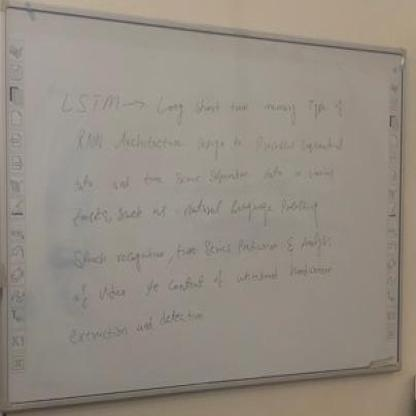Handwritten text: (65, 246, 337, 317), (67, 215, 340, 279), (66, 182, 334, 235), (57, 83, 356, 127), (68, 151, 340, 199), (68, 120, 350, 166), (56, 294, 223, 363)
Whiteboard: (0, 3, 407, 416)
